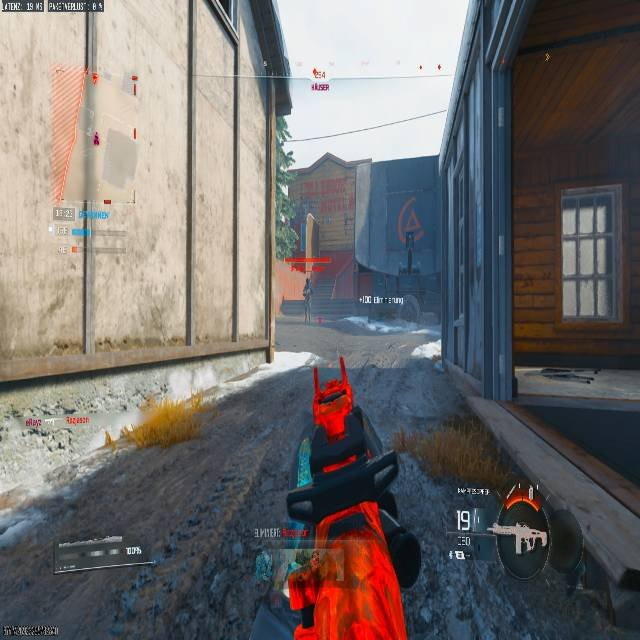player: (277, 372, 425, 639)
